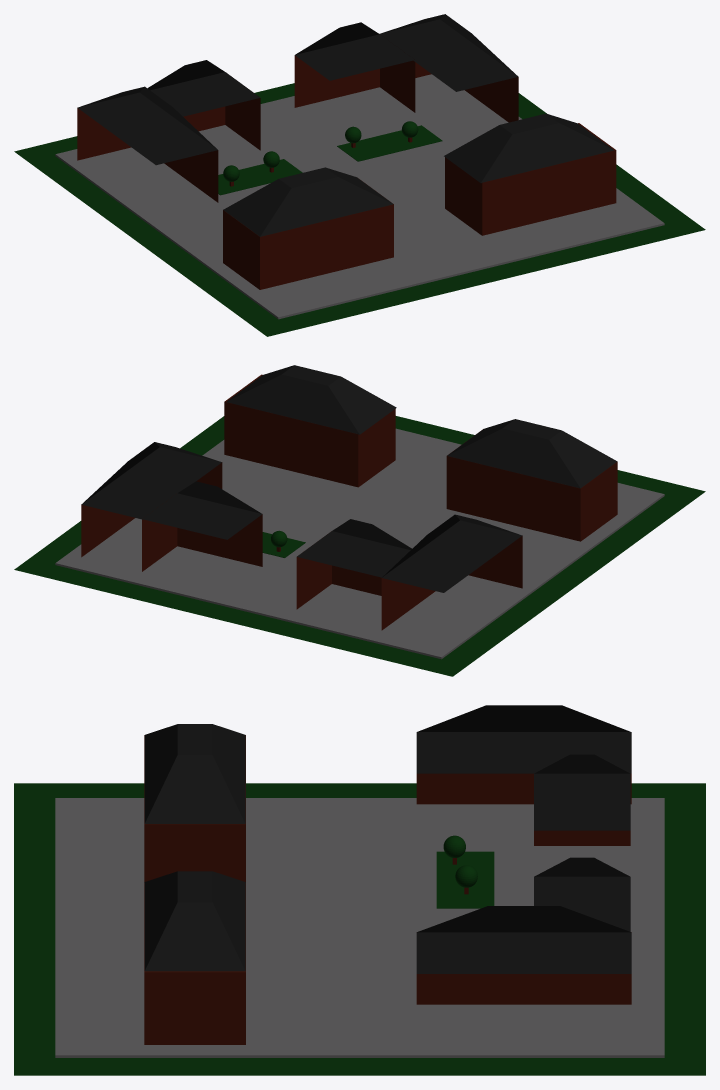
File: ground.obj
3 renders of one model, top to bottom at view 1: azimuth 30°, elevation 25°; view 2: azimuth 150°, elevation 25°; view 3: azimuth 270°, elevation 25°, orthographic. The views are drawn at different scales.
Visible parts, largest first — view 1: Cube_Cube.001, Ground_Plane, Cube.009, Cube.010, Cube.016_Cube.019, Cube.015, Cube.013, Cube.018, Cube.017, Cube.008, Cube.014, Cube.012 (+4 smaller); view 2: Cube_Cube.001, Ground_Plane, Cube.009, Cube.010, Cube.016_Cube.019, Cube.015, Cube.013, Cube.018, Cube.017, Cube.014, Cube.008, Cube.012 (+3 smaller); view 3: Cube_Cube.001, Ground_Plane, Cube.018, Cube.013, Cube.016_Cube.019, Cube.015, Cube.009, Cube.014, Cube.007, Cube.010, Cube.017, Cube.012 (+2 smaller).
Boxes of the visible parts, x1=… form: Cube_Cube.001: x1=55, y1=74, x2=664, y2=319; Ground_Plane: x1=14, y1=83, x2=705, y2=336; Cube.009: x1=445, y1=123, x2=616, y2=235; Cube.010: x1=223, y1=180, x2=393, y2=289; Cube.016_Cube.019: x1=444, y1=113, x2=614, y2=182; Cube.015: x1=223, y1=167, x2=393, y2=236; Cube.013: x1=77, y1=86, x2=217, y2=165; Cube.018: x1=379, y1=14, x2=518, y2=91; Cube.017: x1=295, y1=22, x2=414, y2=80; Cube.008: x1=294, y1=52, x2=415, y2=112; Cube.014: x1=147, y1=60, x2=260, y2=116; Cube.012: x1=77, y1=108, x2=218, y2=202; Cube_Cube.001: x1=55, y1=428, x2=664, y2=659; Ground_Plane: x1=14, y1=416, x2=705, y2=676; Cube.009: x1=224, y1=374, x2=395, y2=487; Cube.010: x1=446, y1=430, x2=617, y2=541; Cube.016_Cube.019: x1=226, y1=365, x2=396, y2=434; Cube.015: x1=447, y1=419, x2=617, y2=488; Cube.013: x1=382, y1=514, x2=522, y2=592; Cube.018: x1=81, y1=442, x2=221, y2=519; Cube.017: x1=143, y1=481, x2=262, y2=539; Cube.014: x1=297, y1=519, x2=411, y2=577; Cube.008: x1=142, y1=497, x2=262, y2=571; Cube.012: x1=381, y1=535, x2=522, y2=630; Cube_Cube.001: x1=55, y1=798, x2=664, y2=1057; Ground_Plane: x1=14, y1=783, x2=705, y2=1075; Cube.018: x1=416, y1=906, x2=631, y2=973; Cube.013: x1=416, y1=705, x2=631, y2=773; Cube.016_Cube.019: x1=144, y1=871, x2=245, y2=971; Cube.015: x1=144, y1=724, x2=245, y2=823; Cube.009: x1=144, y1=883, x2=245, y2=1044; Cube.014: x1=534, y1=754, x2=630, y2=830; Cube.007: x1=416, y1=932, x2=631, y2=1004; Cube.010: x1=144, y1=735, x2=245, y2=881; Cube.017: x1=534, y1=857, x2=630, y2=933; Cube.012: x1=416, y1=773, x2=631, y2=804.
Bounding box in the file's own units: 100 × 18.89 × 100.
